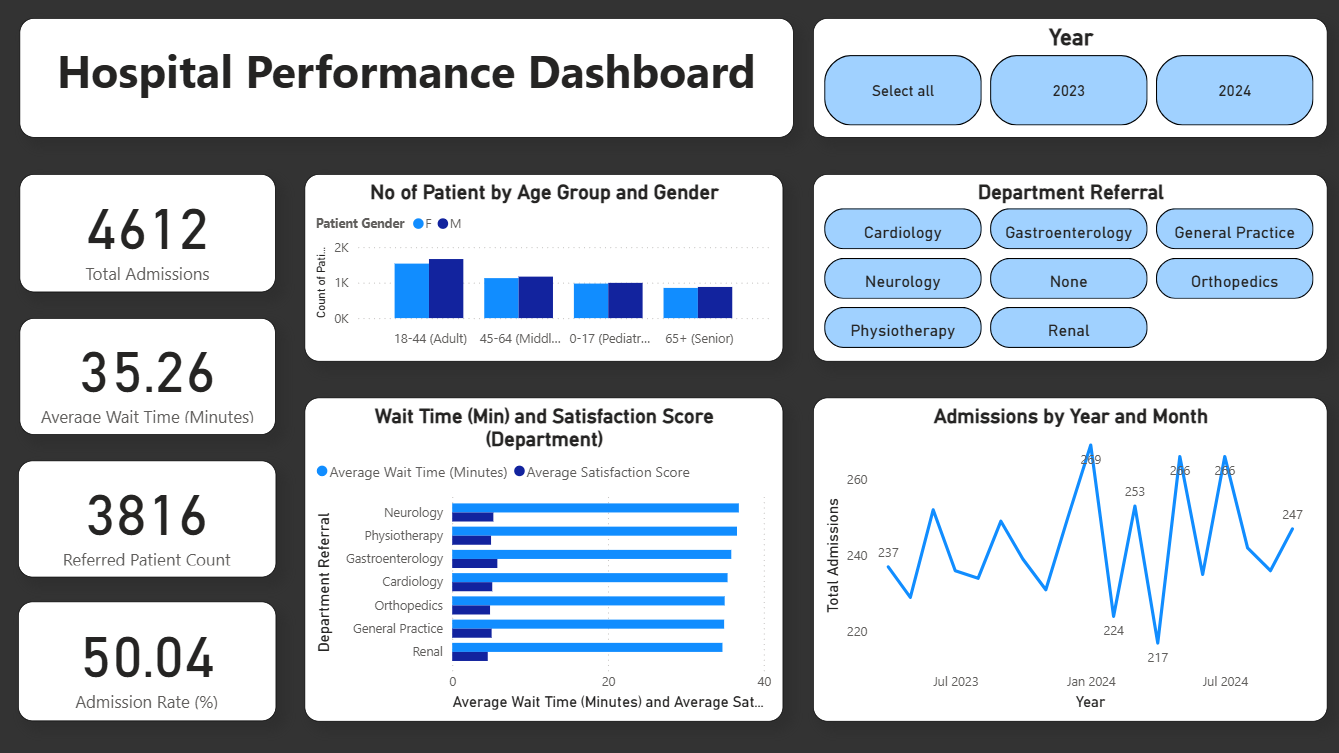

The page's visual inventory and layout, read from the dashboard file:
{"tool":"powerbi","page":{"name":"Page 1","canvas":[1280,720],"ordinal":0},"visuals":[{"type":"card","fields":{"Values":["Hospital ER_Data.Average Wait Time (Minutes)"]},"box":[18.6,302.9,244.3,111.4],"z":0},{"type":"card","fields":{"Values":["Hospital ER_Data.Total Admissions"]},"box":[18.6,165.7,244.3,112.9],"z":1000},{"type":"card","fields":{"Values":["Hospital ER_Data.Admission Rate"]},"box":[17.1,572.9,245.7,114.3],"z":2000},{"type":"advancedSlicerVisual","fields":{"Values":["Hospital ER_Data.Patient Admission Date.Variation.Date Hierarchy.Year"]},"box":[774.3,17.1,490,114.3],"z":3000},{"type":"card","fields":{"Values":["Hospital ER_Data.Referred Patient Count"]},"box":[17.1,438.6,245.7,111.4],"z":4000},{"type":"lineChart","title":"Admissions by Year and Month","fields":{"Category":["Hospital ER_Data.Patient Admission Date.Variation.Date Hierarchy.Year","Hospital ER_Data.Patient Admission Date.Variation.Date Hierarchy.Month"],"Y":["Hospital ER_Data.Total Admissions"]},"box":[774.3,378.1,490,308.6],"z":5000},{"type":"clusteredBarChart","title":"Wait Time (Min) and Satisfaction Score (Department)","fields":{"Category":["Hospital ER_Data.Department Referral"],"Y":["Hospital ER_Data.Average Wait Time (Minutes)","Hospital ER_Data.Average Satisfaction Score"]},"box":[290,378.1,455.7,308.6],"z":6000},{"type":"clusteredColumnChart","title":"No of Patient by Age Group and Gender","fields":{"Category":["Hospital ER_Data.Age Group"],"Y":["CountNonNull(Hospital ER_Data.Patient Id)"],"Series":["Hospital ER_Data.Patient Gender"]},"box":[290,165.3,455.7,178.6],"z":7000},{"type":"advancedSlicerVisual","fields":{"Values":["Hospital ER_Data.Department Referral"]},"box":[774.3,165.3,490,178.6],"z":8000},{"type":"textbox","box":[18.6,17.1,737.1,114.3],"z":8001}]}

Visuals, with their boxes in screenshot pixels (x1, y1, x2, y2), scaled from the page's 1280x720 canvas onto the 1339x753 screenshot:
card - Hospital ER_Data.Average Wait Time (Minutes): bbox(19, 317, 275, 433)
card - Hospital ER_Data.Total Admissions: bbox(19, 173, 275, 291)
card - Hospital ER_Data.Admission Rate: bbox(18, 599, 275, 719)
advancedSlicerVisual - Hospital ER_Data.Patient Admission Date.Variation.Date Hierarchy.Year: bbox(810, 18, 1323, 137)
card - Hospital ER_Data.Referred Patient Count: bbox(18, 459, 275, 575)
"Admissions by Year and Month" lineChart: bbox(810, 395, 1323, 718)
"Wait Time (Min) and Satisfaction Score (Department)" clusteredBarChart: bbox(303, 395, 780, 718)
"No of Patient by Age Group and Gender" clusteredColumnChart: bbox(303, 173, 780, 360)
advancedSlicerVisual - Hospital ER_Data.Department Referral: bbox(810, 173, 1323, 360)
textbox: bbox(19, 18, 791, 137)
